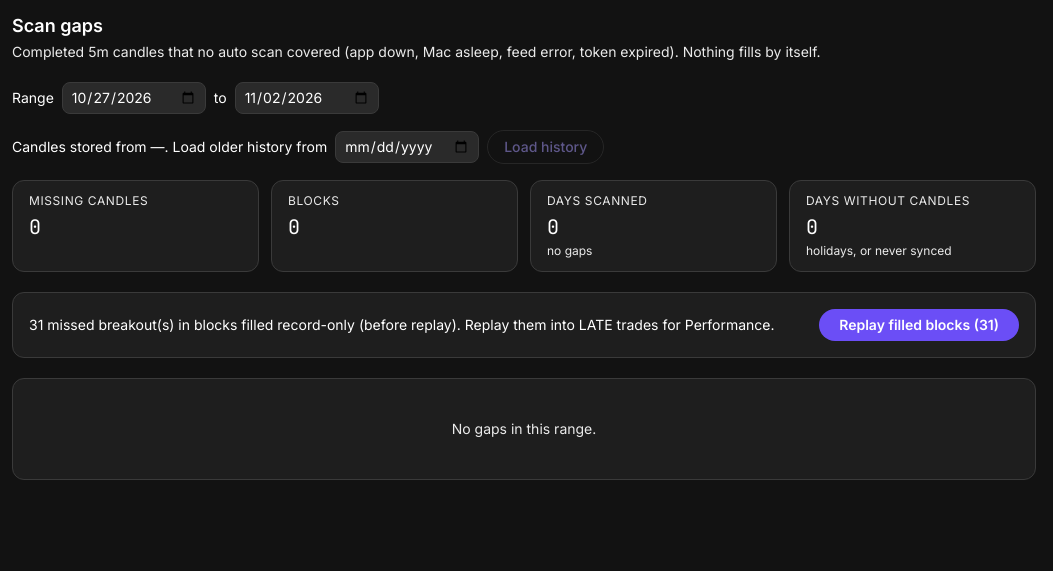
replays blocks filled before replay existed
Click the button "Replay filled blocks (31)".
click(919, 325)  # box [819,309,1019,341]
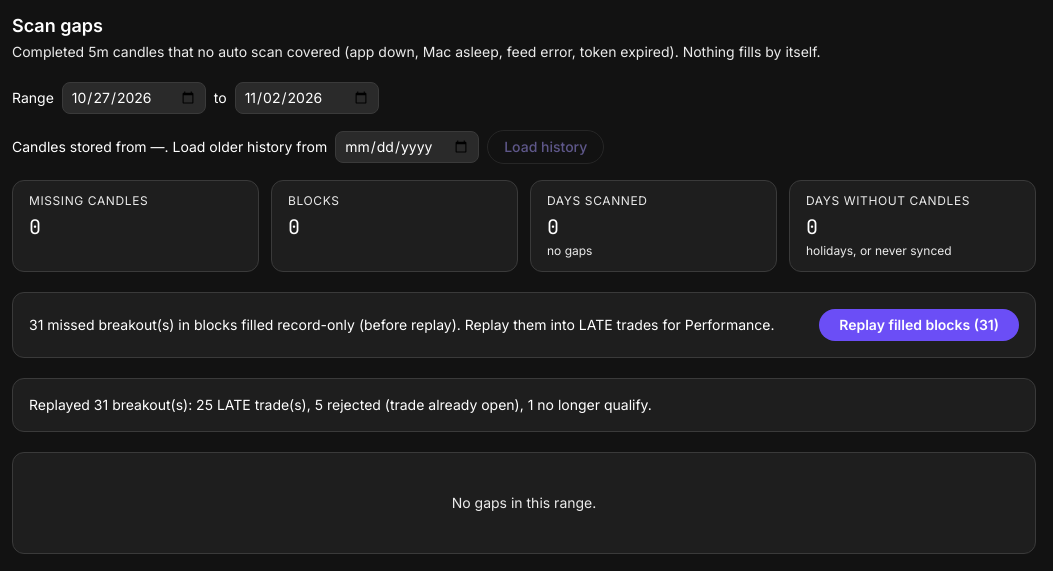
Check: the text "25 LATE trade(s), 5 rejected" is shown, box [12,378,1036,432]
